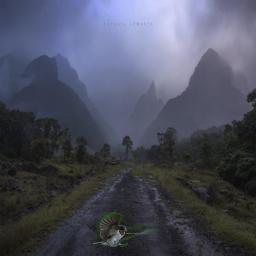Swallow: (93, 212, 159, 247)
